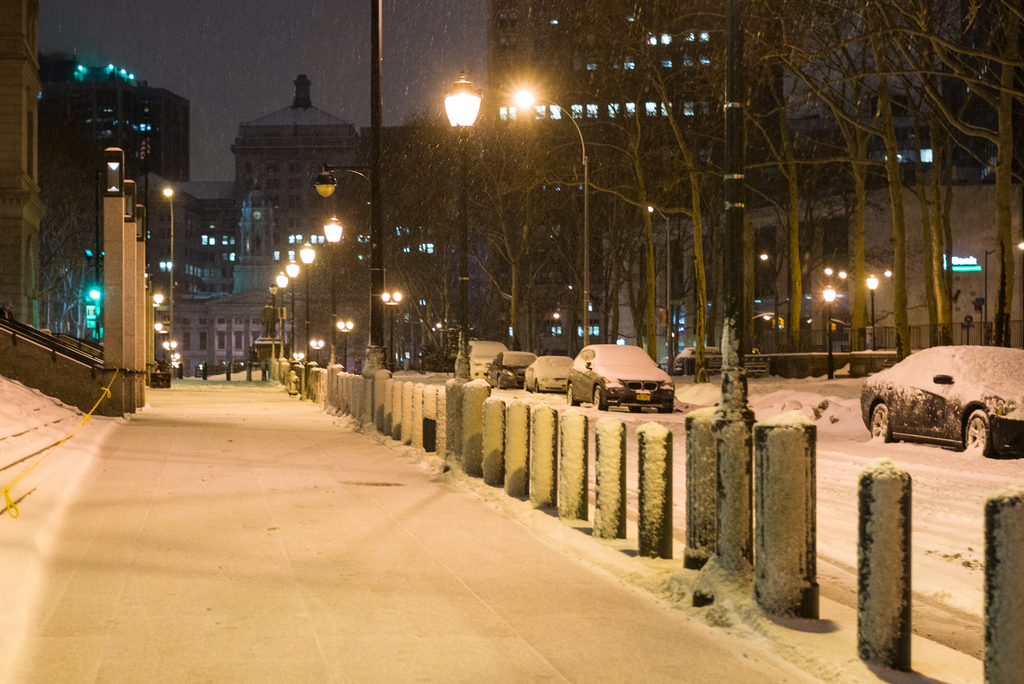Car: (838, 331, 1008, 455), (565, 342, 678, 412), (523, 353, 578, 392), (461, 338, 504, 377), (492, 352, 527, 386)
